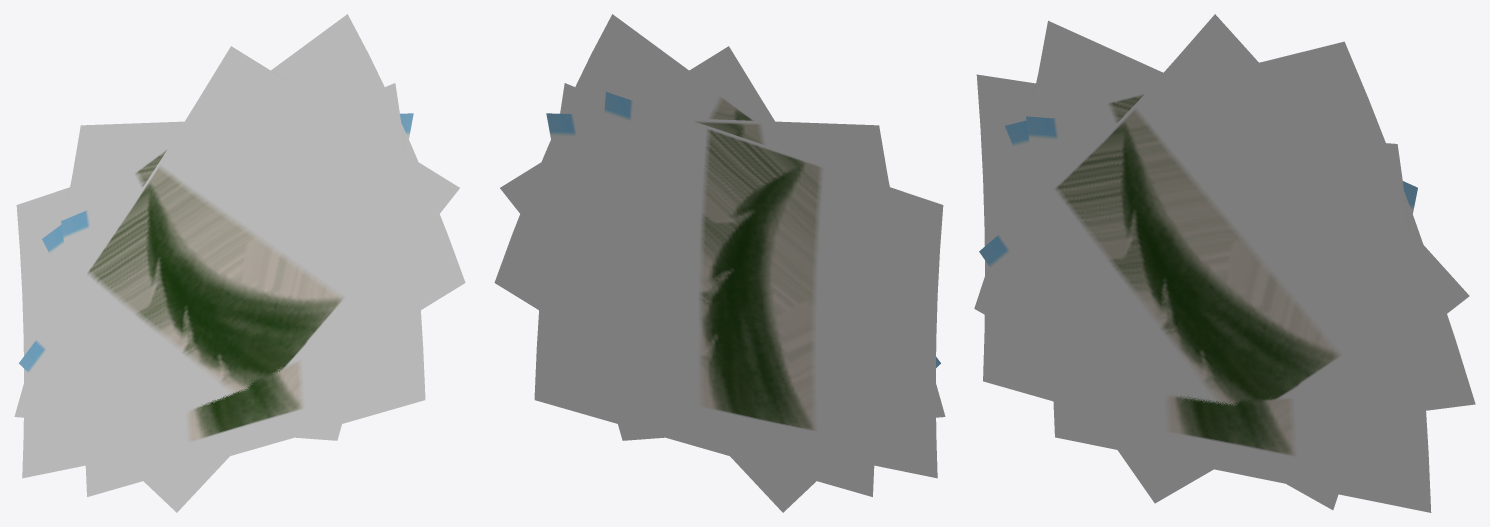
The model's file is Planta_02_PC.fbx.
The picture shows the model from 3 angles, left to right: view 1: azimuth 30°, elevation 25°; view 2: azimuth 150°, elevation 25°; view 3: azimuth 330°, elevation 25°; orthographic projection. The views are drawn at different scales.
Parts seen in each view (by area): view 1: MASTER_Planta_02; view 2: MASTER_Planta_02; view 3: MASTER_Planta_02.
Boxes of the visible parts, x1,y1,x2,y2 form: MASTER_Planta_02: [14, 14, 465, 512]; MASTER_Planta_02: [494, 14, 945, 512]; MASTER_Planta_02: [974, 14, 1475, 512].
Bounding box in the file's own units: 3.68 × 3.57 × 6.58e-05.
